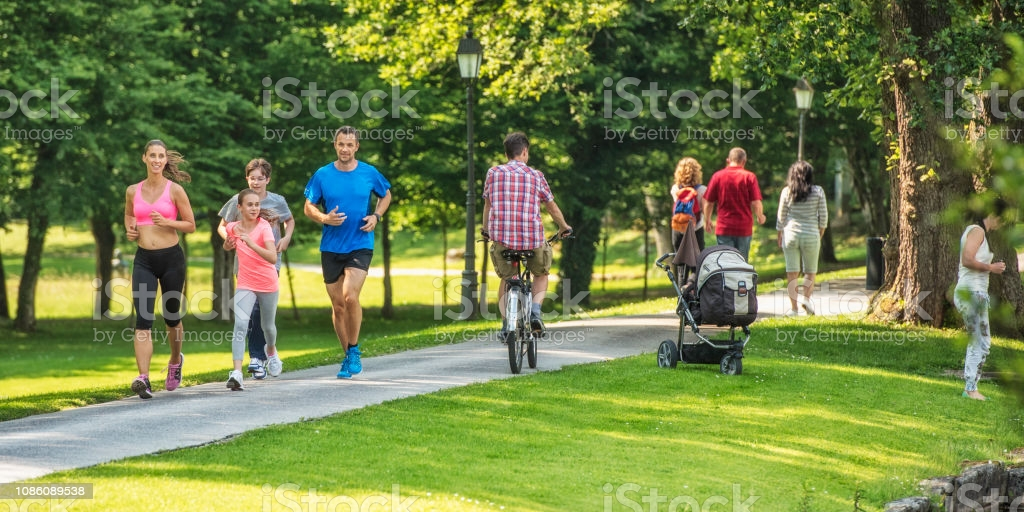person: (297, 121, 402, 387), (476, 124, 580, 354), (119, 133, 203, 408), (213, 153, 300, 386), (947, 192, 1014, 409), (220, 185, 284, 396), (701, 141, 772, 315), (771, 159, 833, 323), (669, 153, 715, 310)
